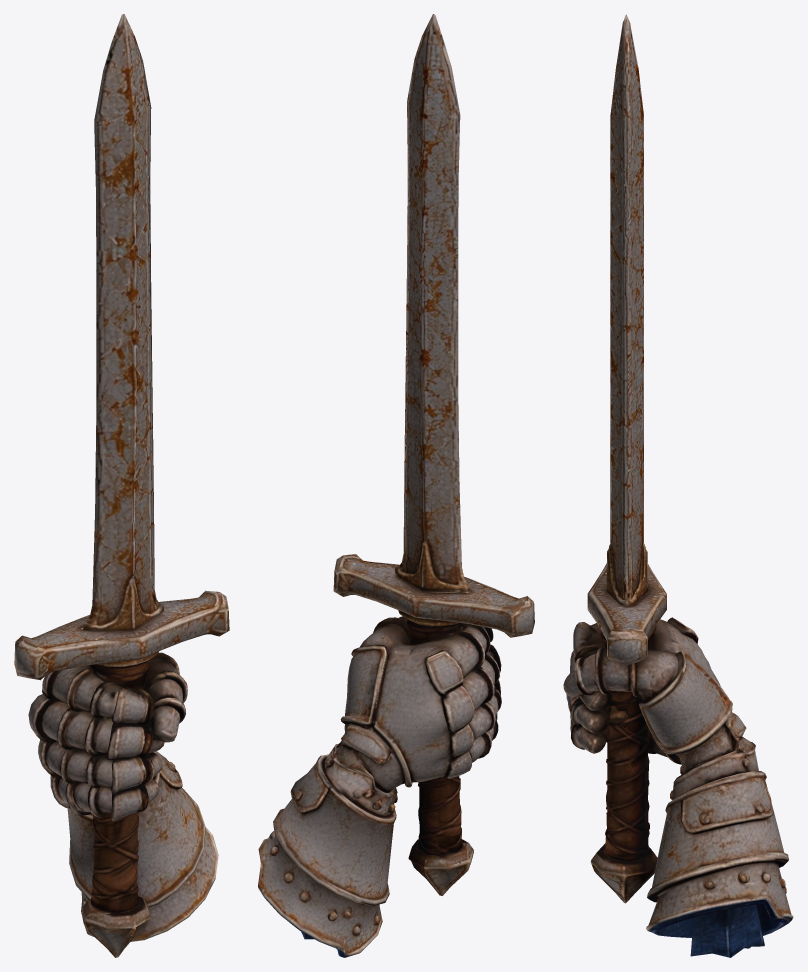
Rendered from player_hand_r.glb.
The picture shows the model from 3 angles, left to right: view 1: azimuth 30°, elevation 25°; view 2: azimuth 150°, elevation 25°; view 3: azimuth 270°, elevation 25°; orthographic projection. The views are drawn at different scales.
Visible parts, largest first — view 1: tripo_node_b26a4cb5-7913-470b-9162-8bce678b7538; view 2: tripo_node_b26a4cb5-7913-470b-9162-8bce678b7538; view 3: tripo_node_b26a4cb5-7913-470b-9162-8bce678b7538.
Part boxes in pixels (bbox=[...]): tripo_node_b26a4cb5-7913-470b-9162-8bce678b7538: bbox=[14, 14, 229, 957]; tripo_node_b26a4cb5-7913-470b-9162-8bce678b7538: bbox=[258, 14, 534, 957]; tripo_node_b26a4cb5-7913-470b-9162-8bce678b7538: bbox=[563, 14, 793, 957].
Size of the model in its own units: 0.2534 by 0.9995 by 0.2271.
Materials: 1 (1 with a texture image).
